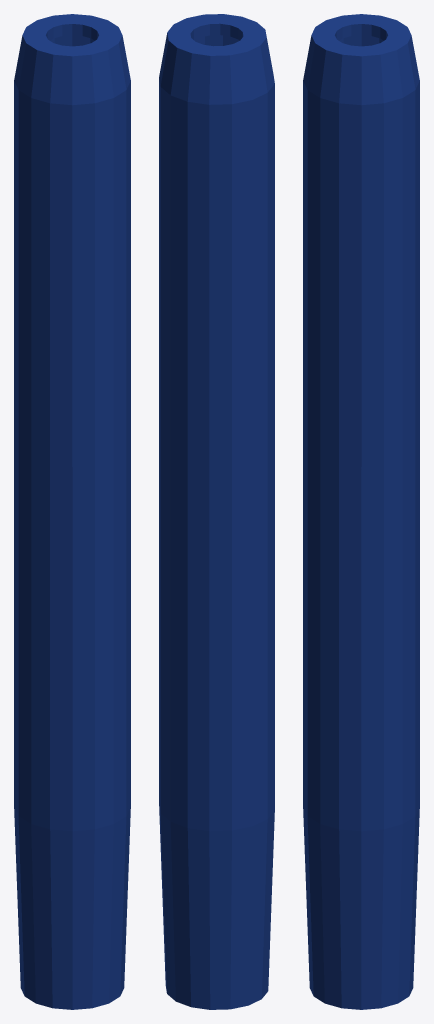
The model's file is Barrel.fbx.
3 views of the same model, side by side, from view 1: azimuth 90°, elevation 25°; view 2: azimuth 150°, elevation 25°; view 3: azimuth 270°, elevation 25° (orthographic).
Parts seen in each view (by area): view 1: Barrel; view 2: Barrel; view 3: Barrel.
Boxes of the visible parts, box(x1,y1,x2,y2) form: Barrel: box(14, 14, 130, 1009); Barrel: box(159, 14, 274, 1009); Barrel: box(303, 14, 419, 1009).
Bounding box in the file's own units: 0.0014 × 0.0126 × 0.0014.
